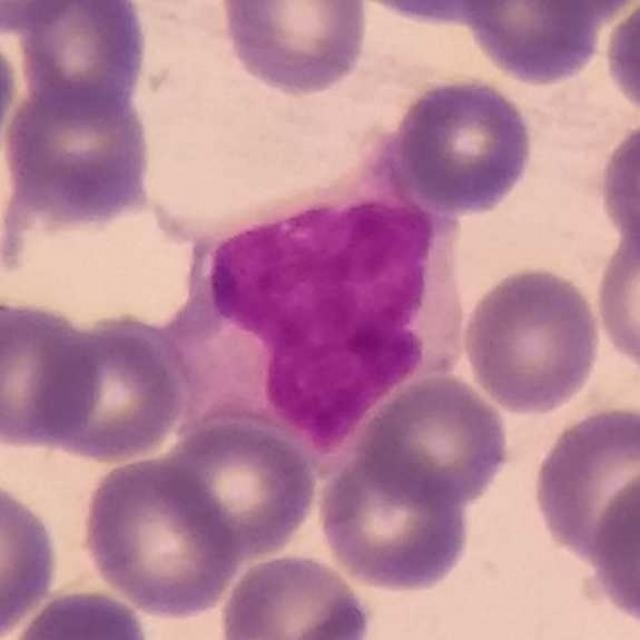Monocyte: (176, 151, 474, 459)
RBC: (79, 453, 242, 621), (154, 415, 320, 560), (313, 448, 475, 596), (32, 313, 189, 465), (0, 75, 157, 226), (458, 263, 604, 416), (353, 372, 513, 508), (393, 72, 538, 216), (528, 399, 640, 568), (0, 291, 106, 453), (10, 0, 153, 119), (215, 0, 372, 99), (217, 550, 375, 640), (458, 0, 606, 87), (0, 474, 62, 640), (586, 462, 640, 634), (5, 585, 154, 640), (591, 217, 640, 383), (594, 113, 640, 264), (340, 0, 518, 28), (601, 0, 640, 122), (506, 0, 638, 23), (0, 23, 21, 164), (0, 0, 82, 34)
